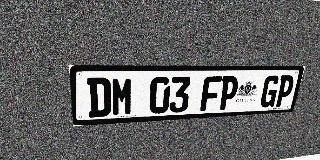0: (149, 77, 171, 114)
3: (169, 76, 191, 113)
D: (87, 77, 111, 118)
F: (200, 76, 222, 111)
G: (259, 75, 281, 108)
M: (111, 77, 133, 116)
P: (218, 76, 240, 110), (274, 75, 296, 107)
